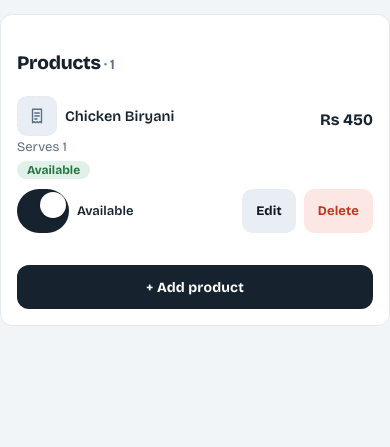
Test: OwnerProducts › surfaces the PRODUCT_IN_USE guidance when delete is refused
Click the button "Delete". click: [338, 211]
box: top-left (304, 189), bottom-right (373, 233)
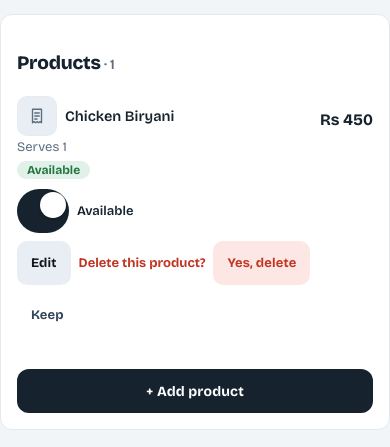
Click the button "Yes, delete". click: [262, 263]
box: top-left (213, 241), bottom-right (310, 285)
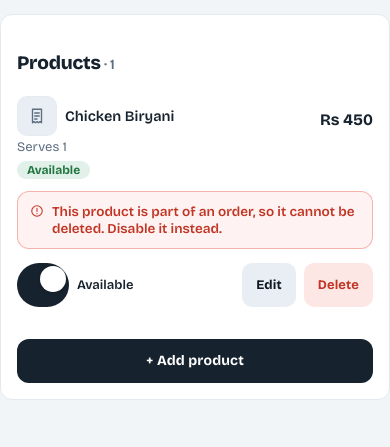
Expected: the text "This product is part of an order, so it cannot be deleted. Disable it instead." is shown, top-left (17, 191), bottom-right (373, 249)
